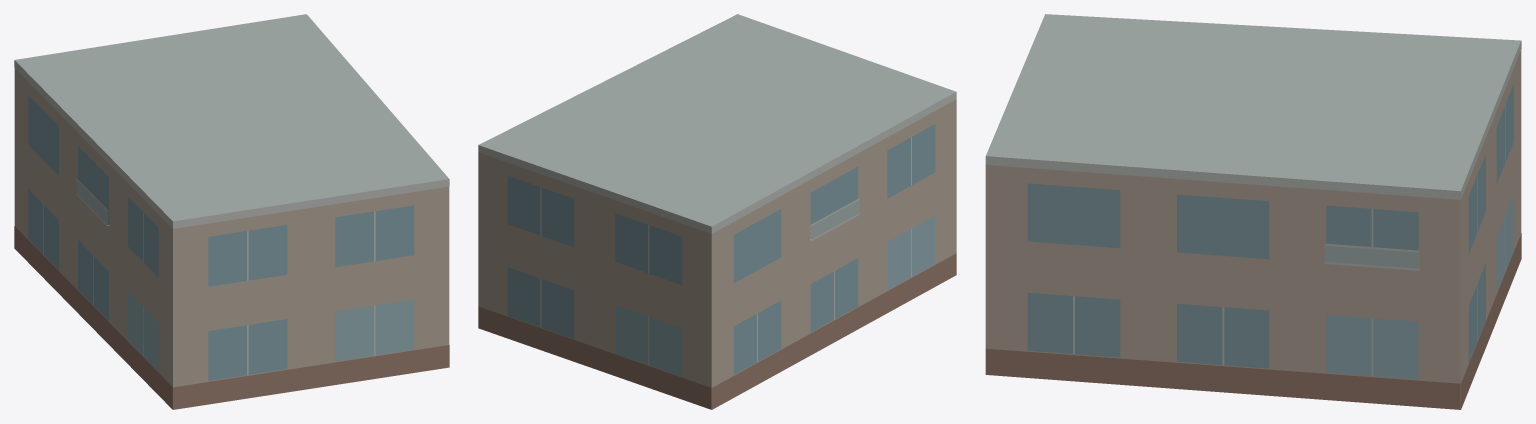
Rendered from survey-upis-32487613.glb.
3 views of the same model, side by side, from view 1: azimuth 30°, elevation 25°; view 2: azimuth 150°, elevation 25°; view 3: azimuth 270°, elevation 25° (orthographic). The views are drawn at different scales.
Parts seen in each view (by area): view 1: survey-upis-32487613.tmp; view 2: survey-upis-32487613.tmp; view 3: survey-upis-32487613.tmp.
Part boxes in pixels (x1,y1,x2,y2): survey-upis-32487613.tmp: (14, 14, 449, 409); survey-upis-32487613.tmp: (478, 14, 956, 409); survey-upis-32487613.tmp: (985, 14, 1521, 409).
Bounding box in the file's own units: 10.61 × 6.1 × 13.55.
